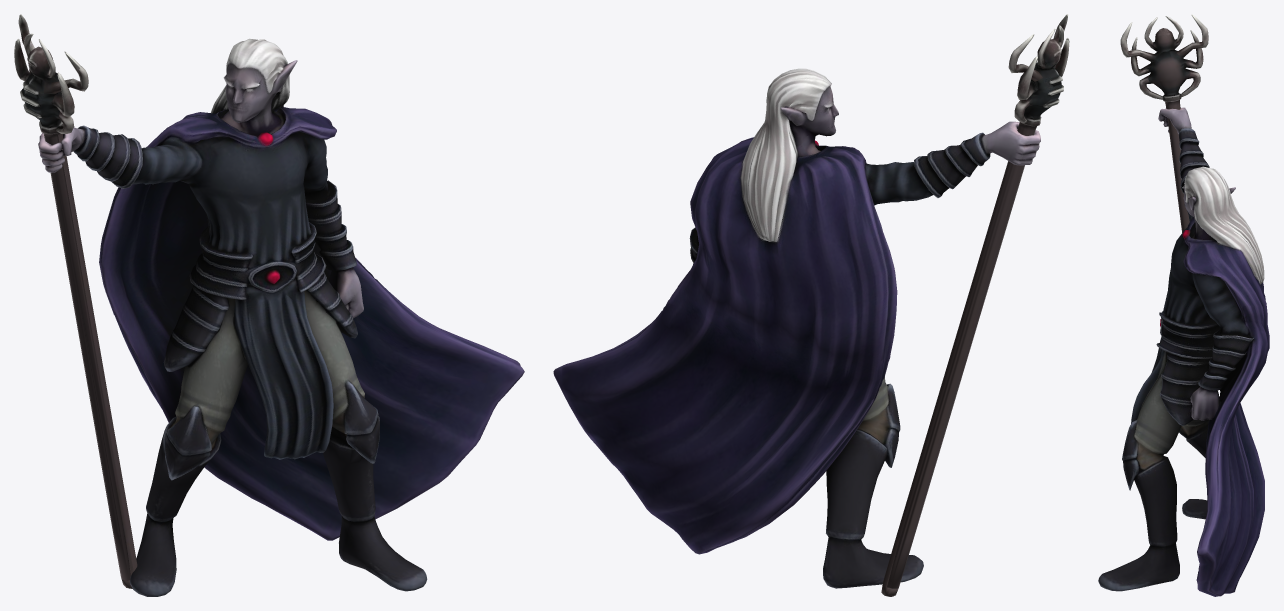
The model's file is Drow mage.glb.
The picture shows the model from 3 angles, left to right: view 1: azimuth 30°, elevation 25°; view 2: azimuth 150°, elevation 25°; view 3: azimuth 270°, elevation 25°; orthographic projection. The views are drawn at different scales.
Visible parts, largest first — view 1: body_low.001, Spiderstaff_low.001; view 2: body_low.001, Spiderstaff_low.001; view 3: body_low.001, Spiderstaff_low.001.
Boxes of the visible parts, left/top/right/bottom form: body_low.001: left=38, top=38, right=524, bottom=596; Spiderstaff_low.001: left=14, top=14, right=137, bottom=588; body_low.001: left=553, top=68, right=1040, bottom=588; Spiderstaff_low.001: left=881, top=14, right=1069, bottom=596; body_low.001: left=1098, top=107, right=1269, bottom=596; Spiderstaff_low.001: left=1120, top=14, right=1208, bottom=232.
Bounding box in the file's own units: 6.33 × 7.19 × 2.43.
1 material, 1 textured.
